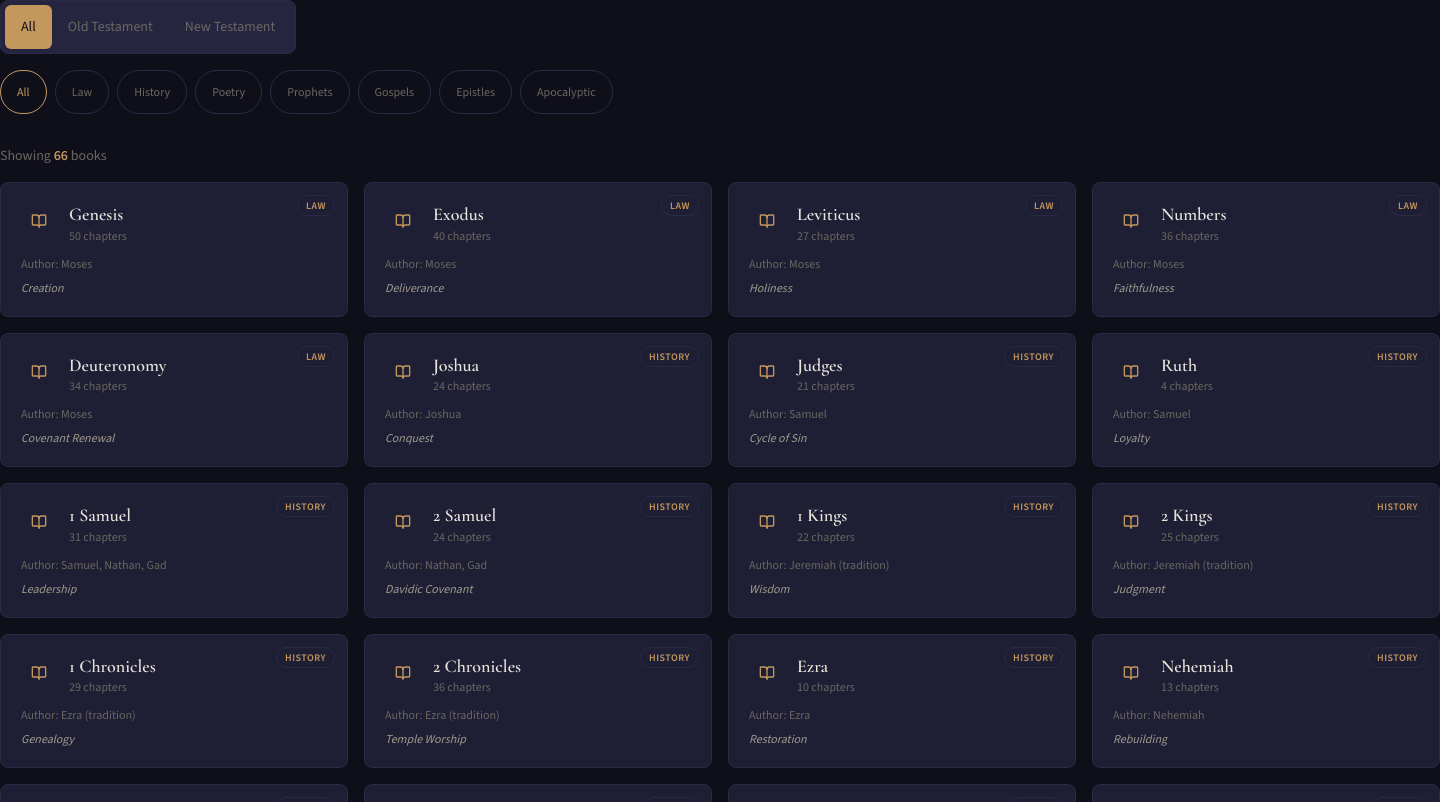
Test: BookGrid › clear filters button resets both filters
This screenshot has width=1440, height=802.
Note: Apply filters that result in zero matches
Click the radio button "Old Testament".
click(110, 27)  # box top-left (52, 5), bottom-right (169, 49)
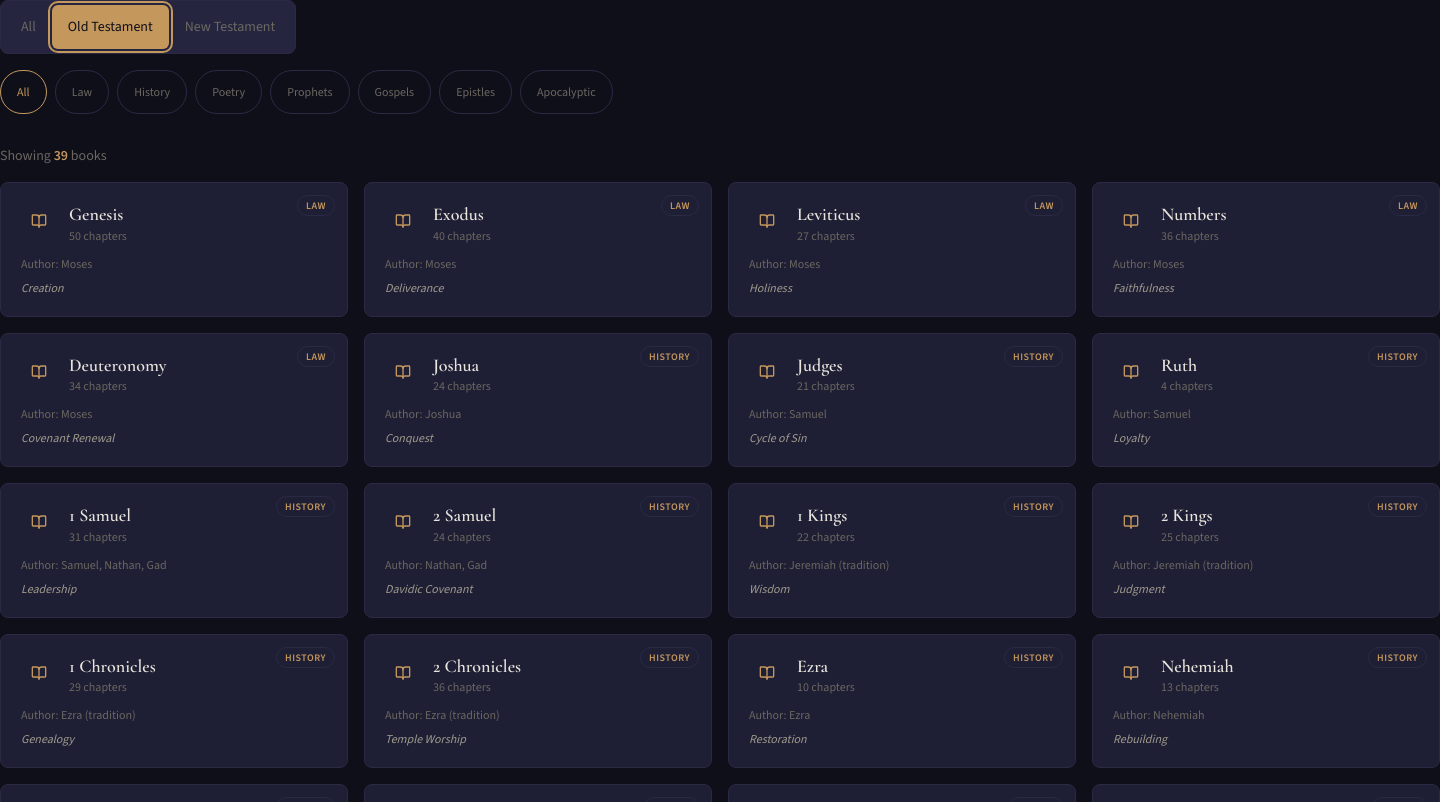
Click the radio button "Gospels".
click(394, 92)  # box top-left (358, 70), bottom-right (431, 114)
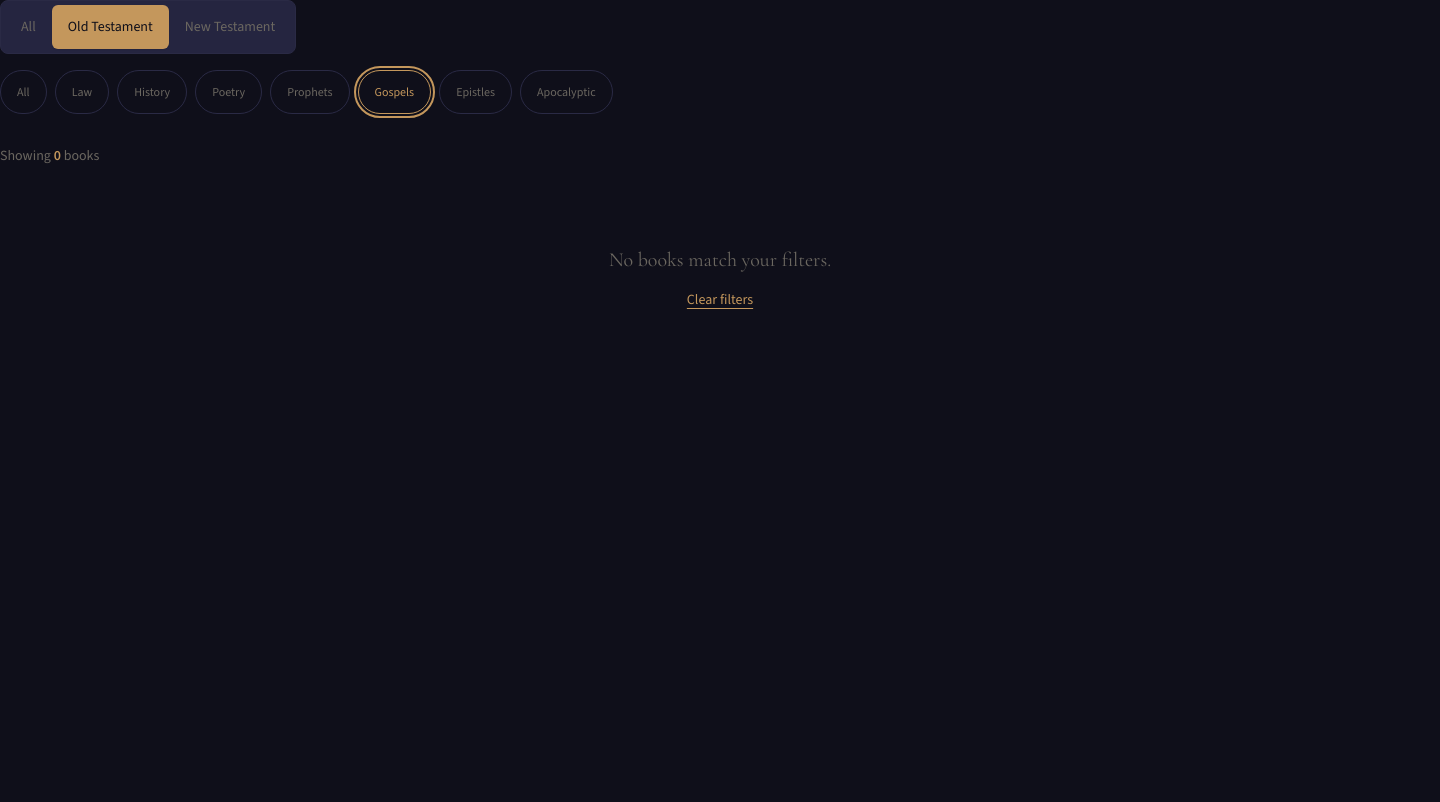
Now the text "No books match your filters." is shown, box top-left (609, 248), bottom-right (831, 272)
Note: Click "Clear filters"
Click the button "Clear filters".
click(720, 300)  # box top-left (687, 290), bottom-right (753, 310)
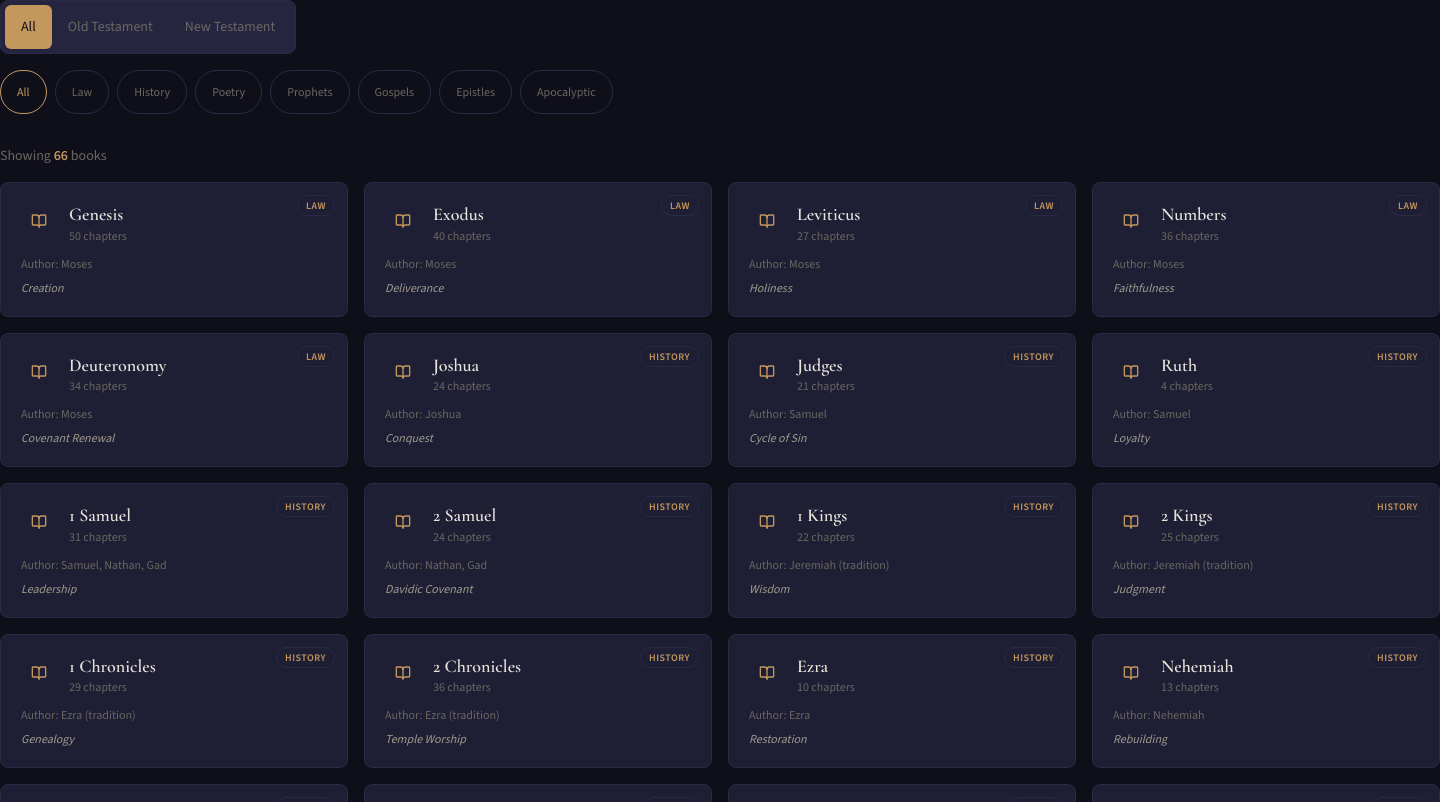
Now the text "66" is shown, box top-left (54, 146), bottom-right (68, 165)
